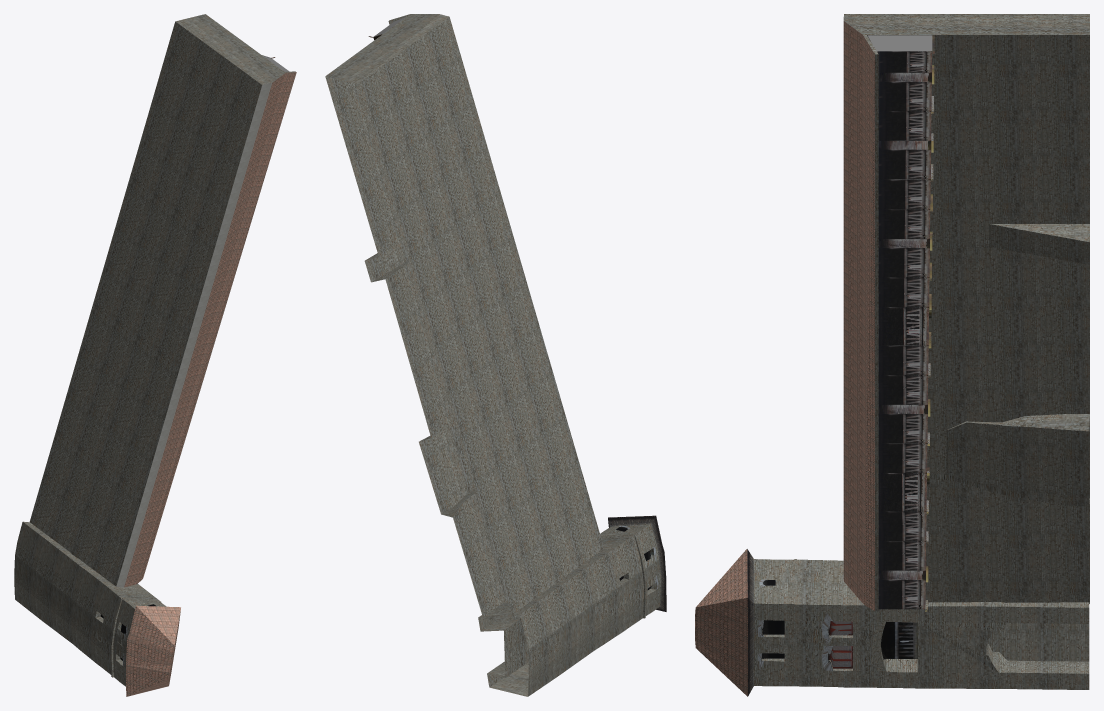
The model's file is Kooli_1-origo.obj.
The picture shows the model from 3 angles, left to right: view 1: azimuth 30°, elevation 25°; view 2: azimuth 150°, elevation 25°; view 3: azimuth 270°, elevation 25°; orthographic projection. The views are drawn at different scales.
Parts seen in each view (by area): view 1: Kooli_1; view 2: Kooli_1; view 3: Kooli_1.
Part boxes in pixels (box(x1,y1,x2,y2)): Kooli_1: box(14, 14, 296, 696); Kooli_1: box(325, 14, 666, 696); Kooli_1: box(695, 14, 1089, 696).
Size of the model in its own units: 17.81 by 43 by 19.97.
